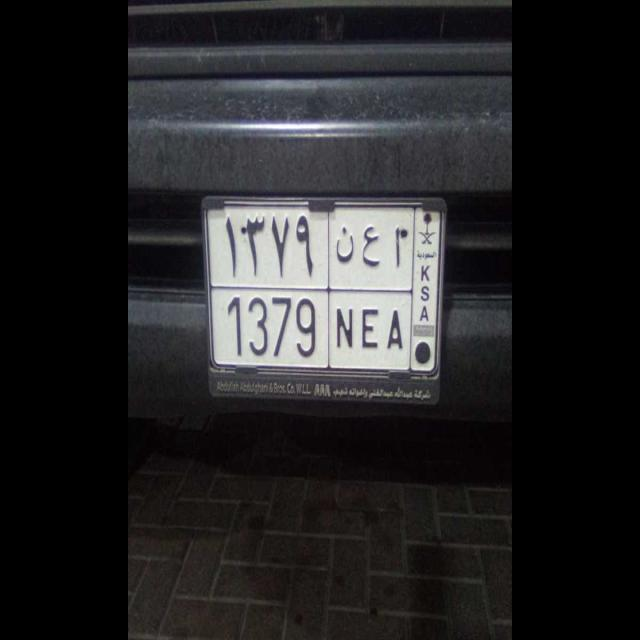license_plate: (208, 283, 412, 373)
